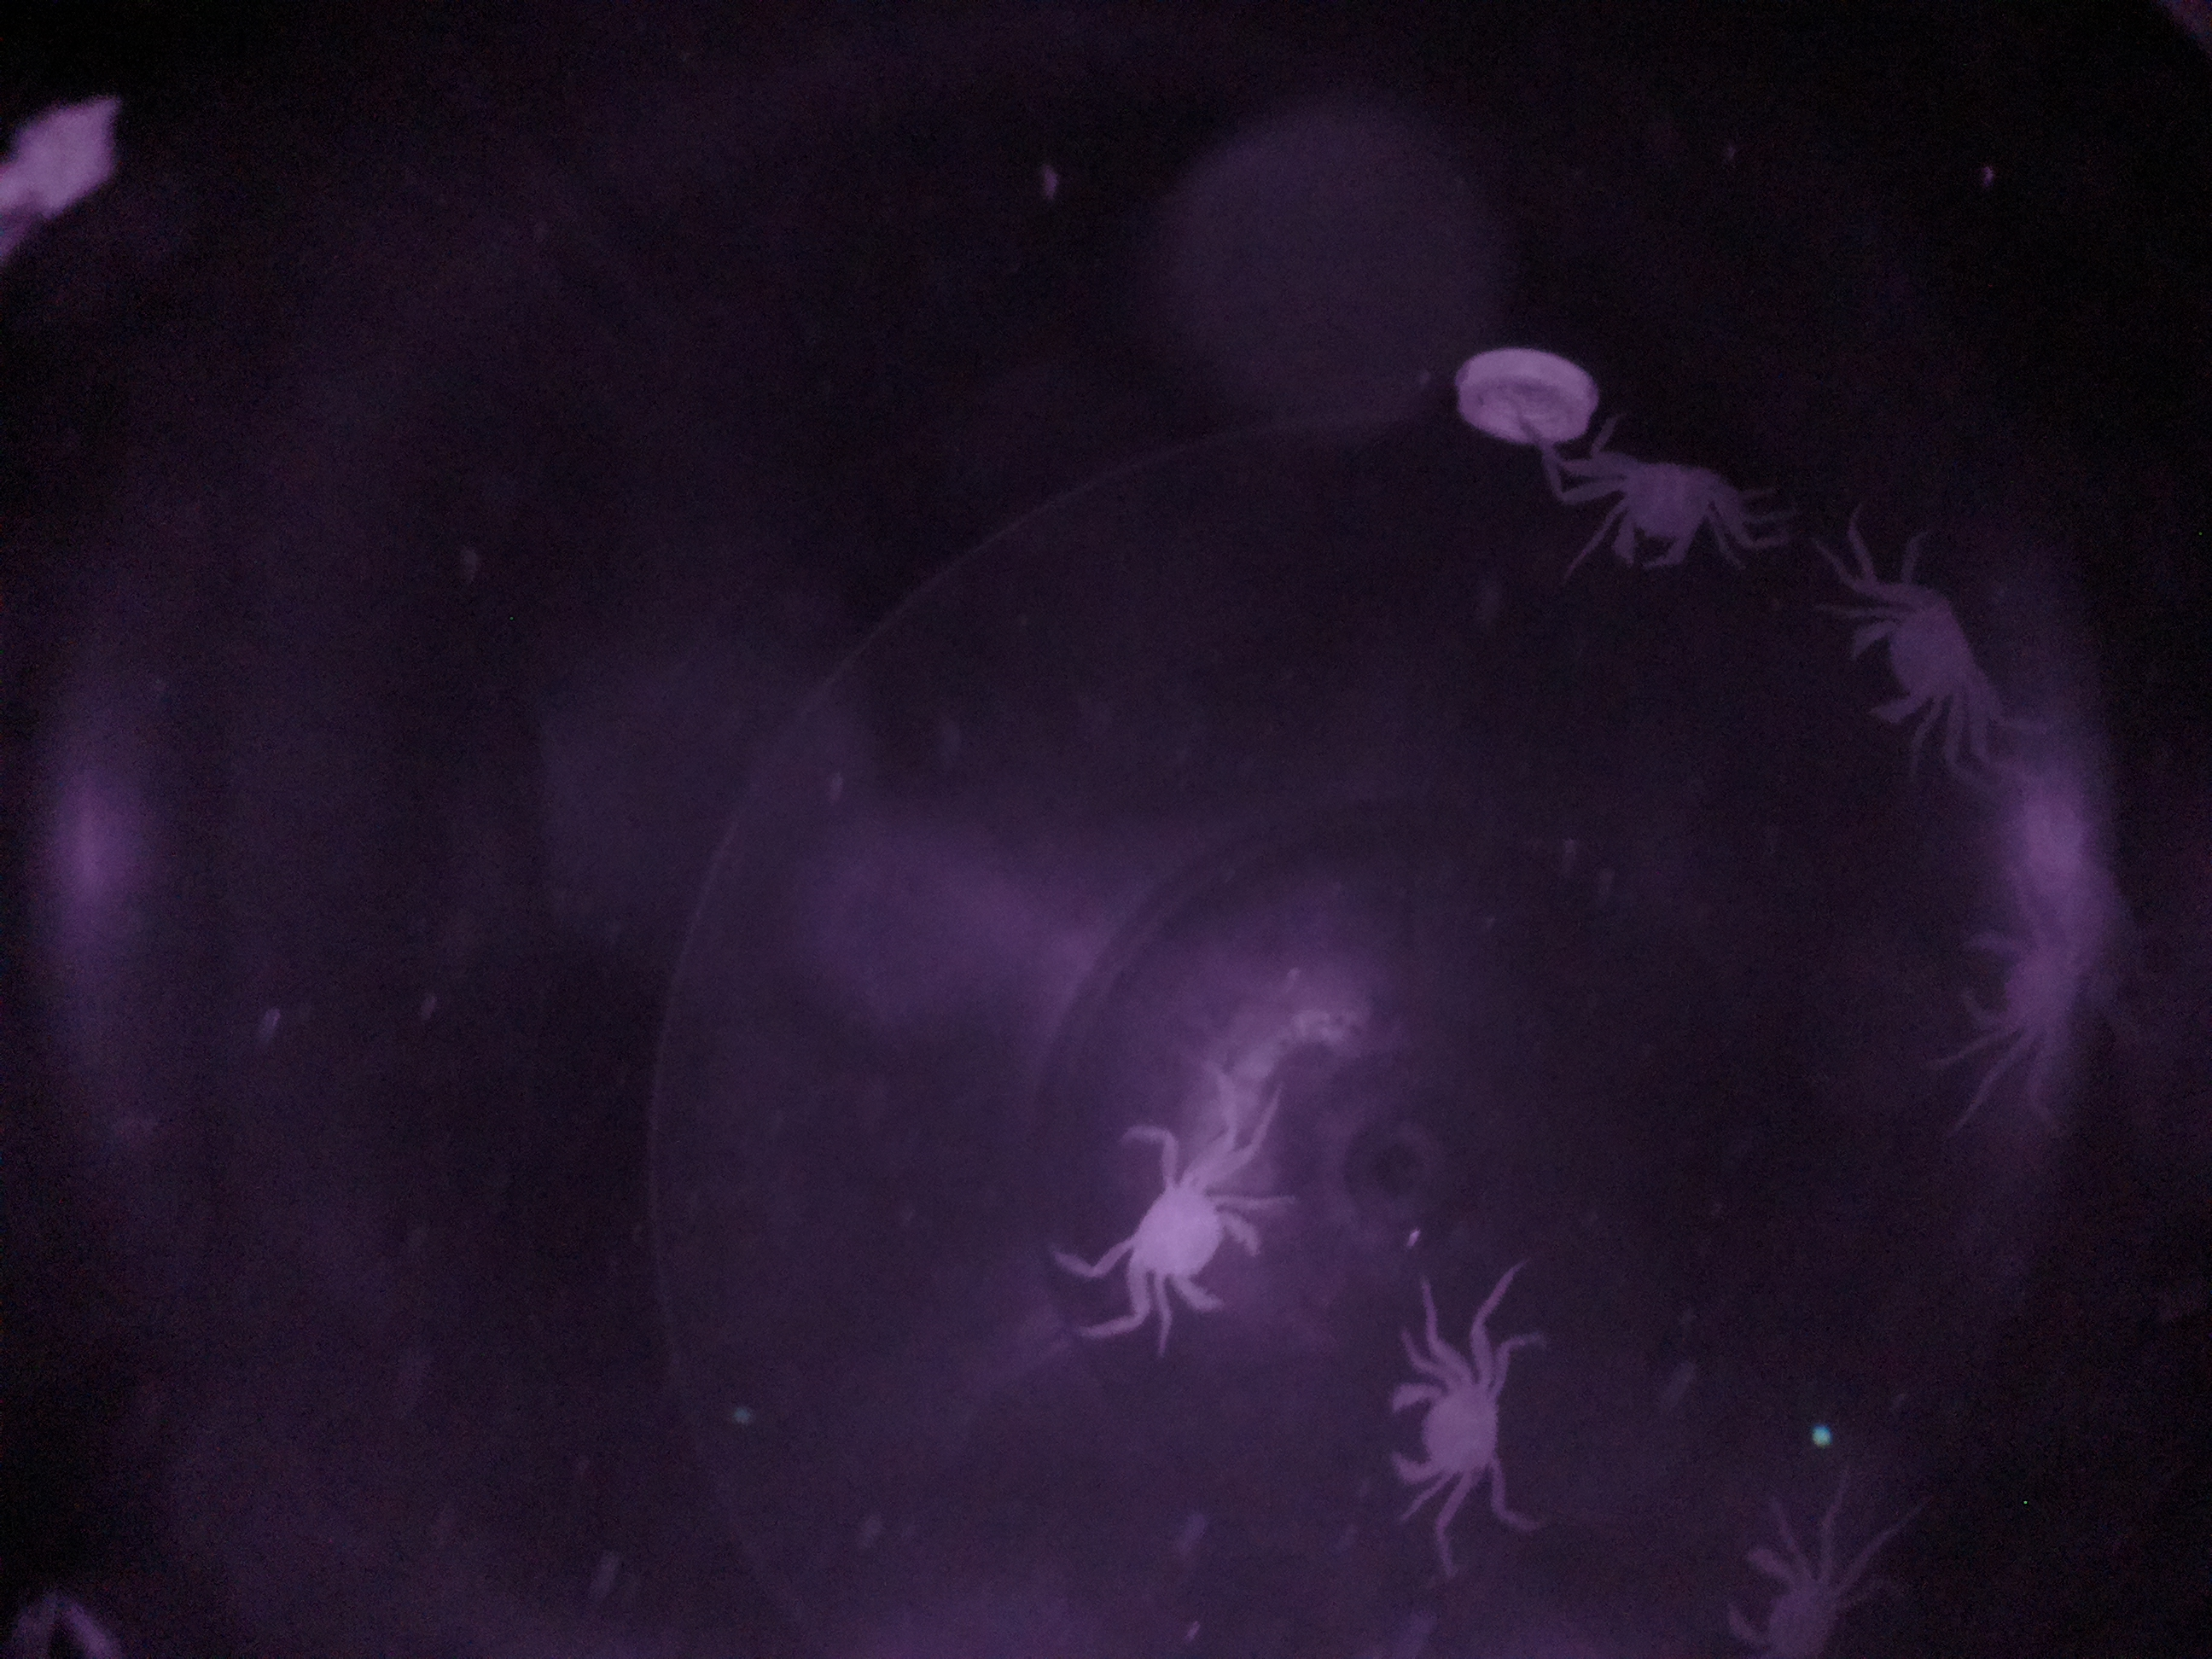Crab: (1075, 1110, 1268, 1337), (1824, 542, 2015, 760), (1540, 418, 1766, 592), (1366, 1309, 1534, 1530)
